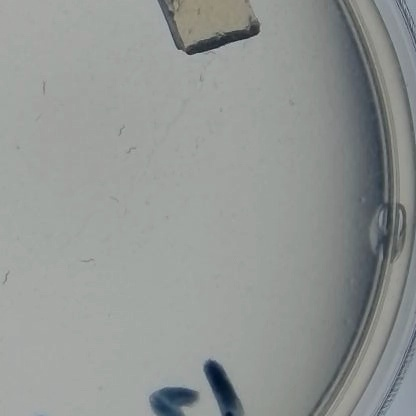worm: (24, 78, 49, 114), (0, 257, 24, 292), (114, 116, 136, 144), (121, 140, 145, 156), (75, 254, 100, 269), (104, 191, 123, 206), (10, 143, 22, 154)
